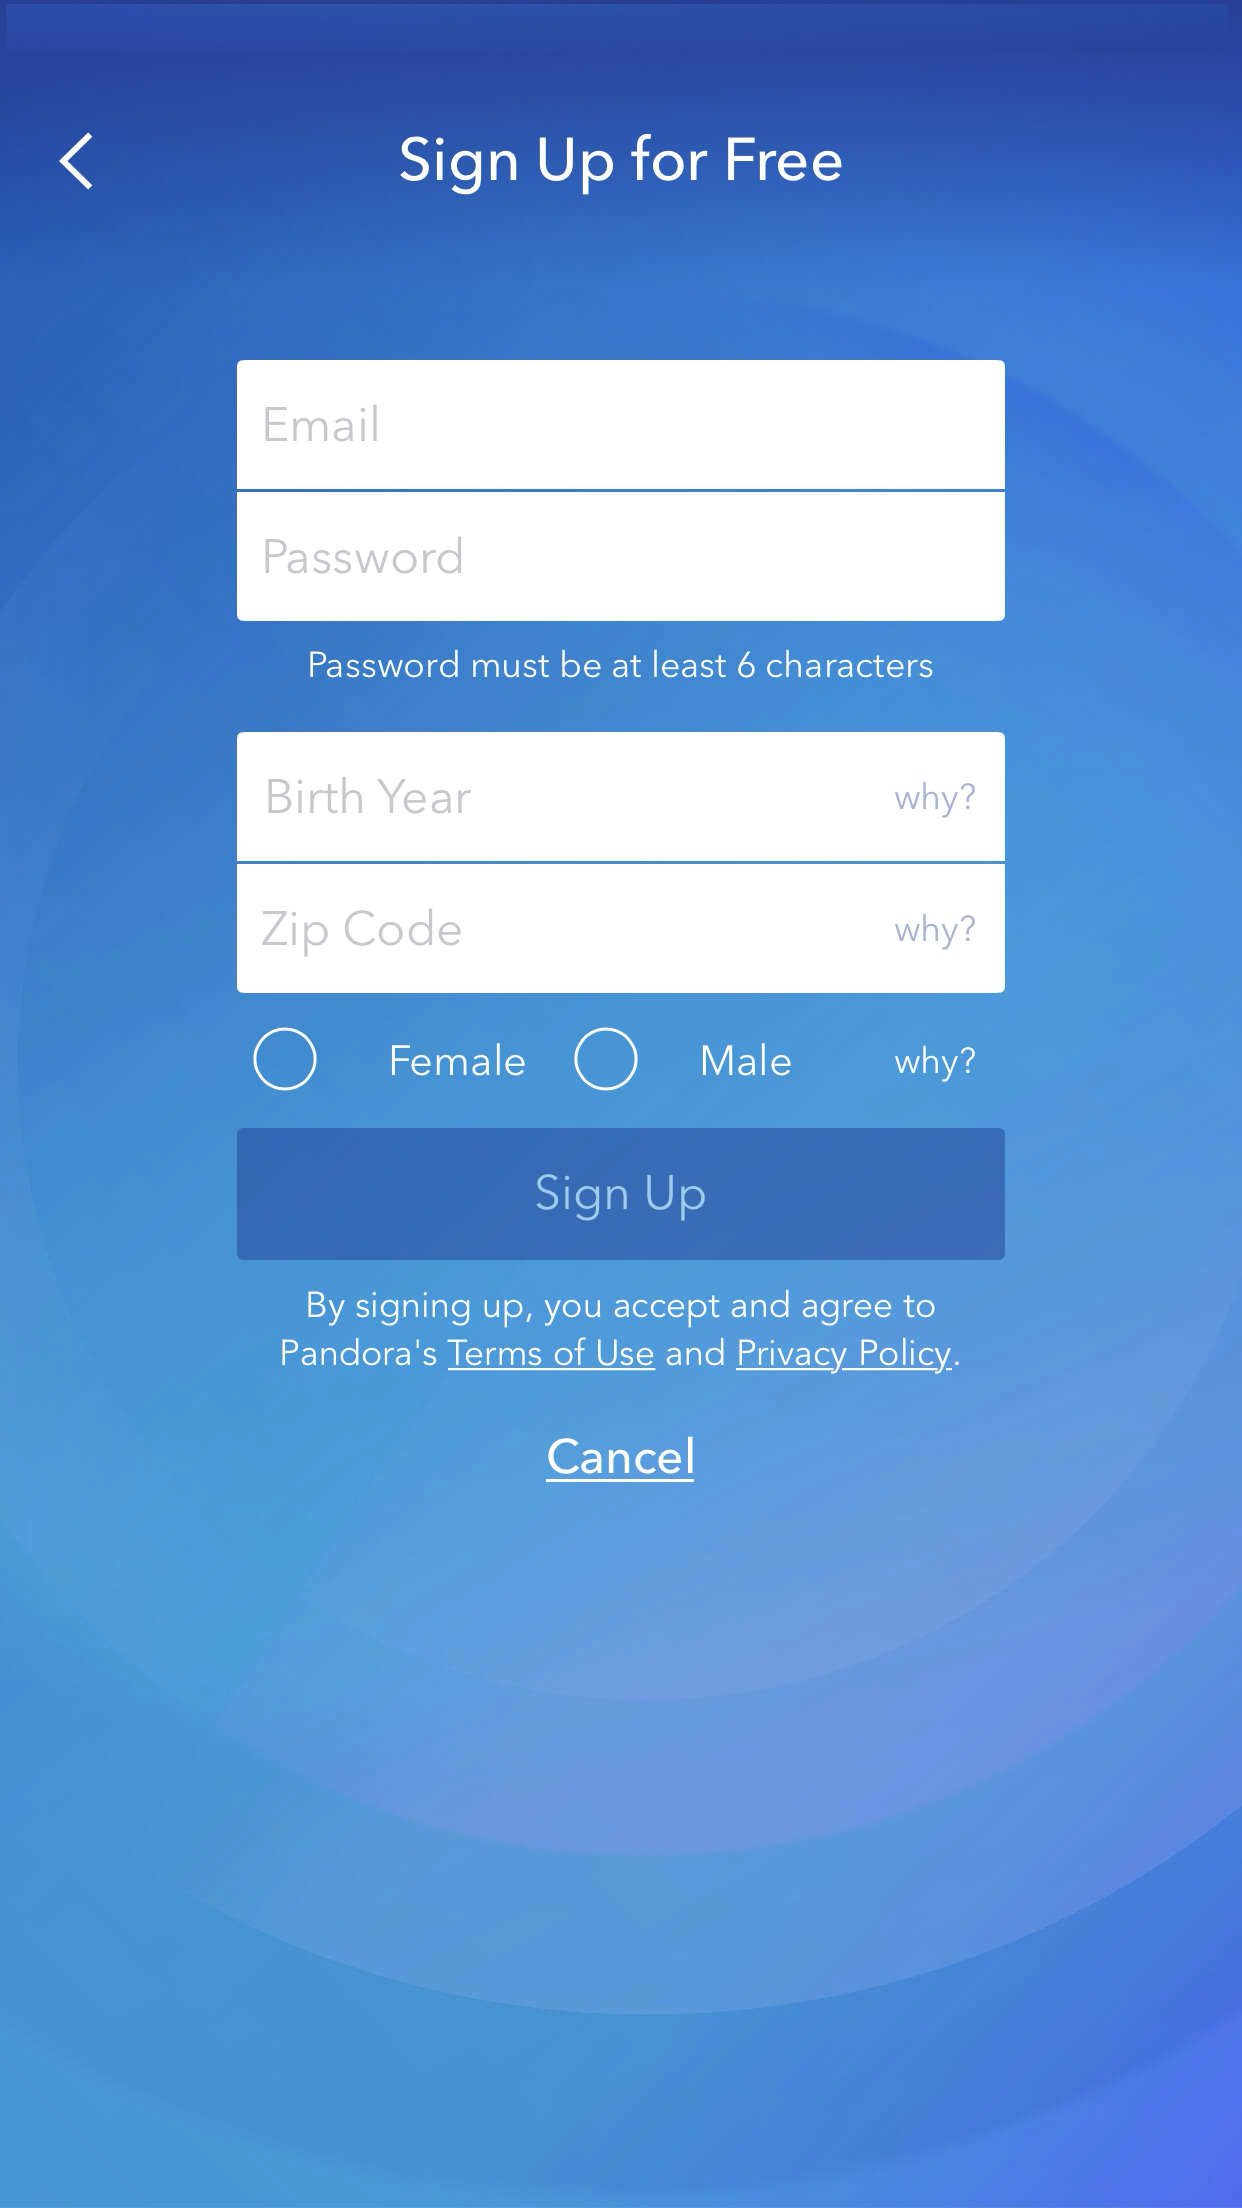BackgroundImage: (2, 2, 1240, 2208)
CheckedTextView: (253, 1027, 526, 1092), (575, 1027, 792, 1092)
EditText: (238, 864, 1005, 993), (238, 732, 1005, 861), (238, 493, 1005, 622), (238, 361, 1005, 490)
Icon: (61, 133, 94, 191)
Text: (282, 1289, 958, 1375), (400, 133, 842, 196), (309, 649, 933, 679), (262, 908, 463, 958), (265, 537, 463, 575), (268, 779, 472, 814), (546, 1436, 695, 1483), (391, 1043, 526, 1077), (265, 405, 378, 443), (895, 1045, 977, 1083), (704, 1043, 792, 1077), (896, 783, 975, 817), (896, 914, 975, 949)
TextButton: (238, 1128, 1005, 1262)
